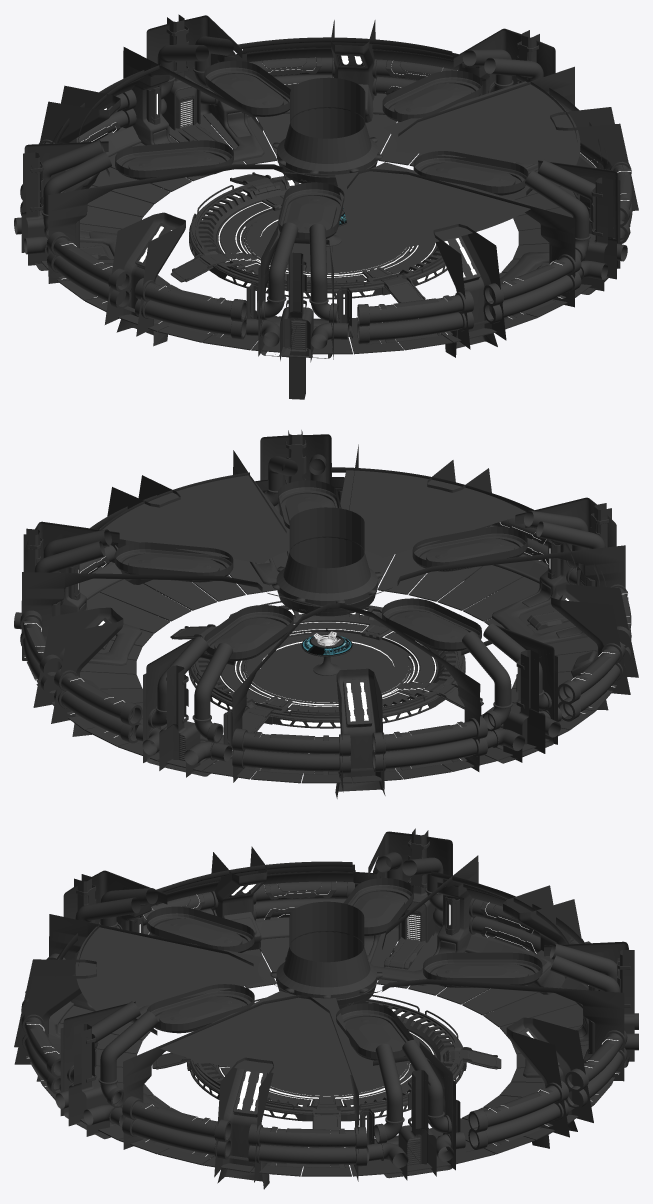
The model's file is hq-room-simple-remeshed15.glb.
3 renders of one model, top to bottom at view 1: azimuth 30°, elevation 25°; view 2: azimuth 150°, elevation 25°; view 3: azimuth 270°, elevation 25°, orthographic.
Visible parts, largest first — view 1: cake-slice-decoration, outer-structure-lamps, outer-structure-vents, outer-structure-pipes, outer-structure, outer_plate, inner-collection, center-lamp, inner-collection.002, inner-collection.001, outer-structure-side-lights, outer-structure-over-vents; view 2: cake-slice-decoration, outer_plate, outer-structure, outer-structure-lamps, outer-structure-pipes, outer-structure-vents, inner-collection, center-lamp, inner-collection.001, inner-collection.002, outer-structure-over-vents, outer-structure-side-lights (+2 smaller); view 3: cake-slice-decoration, outer-structure-lamps, outer-structure-vents, outer-structure-pipes, outer_plate, outer-structure, center-lamp, inner-collection, inner-collection.002, outer-structure-side-lights, inner-collection.001, outer-structure-over-vents.
Part boxes in pixels (x1,y1,x2,y2): cake-slice-decoration: (20, 20, 638, 357); outer-structure-lamps: (115, 60, 528, 238); outer-structure-vents: (21, 14, 617, 399); outer-structure-pipes: (14, 36, 627, 349); outer-structure: (23, 34, 620, 359); outer_plate: (41, 113, 621, 354); inner-collection: (170, 172, 447, 302); center-lamp: (272, 77, 382, 186); inner-collection.002: (192, 176, 443, 289); inner-collection.001: (244, 210, 409, 275); outer-structure-side-lights: (75, 85, 591, 326); outer-structure-over-vents: (30, 25, 602, 308); cake-slice-decoration: (20, 460, 638, 798); outer_plate: (36, 549, 612, 783); outer-structure: (22, 444, 625, 782); outer-structure-lamps: (114, 480, 527, 660); outer-structure-pipes: (14, 454, 605, 765); outer-structure-vents: (21, 430, 616, 777); inner-collection: (170, 601, 483, 733); center-lamp: (272, 507, 381, 616); inner-collection.001: (243, 633, 410, 705); inner-collection.002: (192, 605, 462, 718); outer-structure-over-vents: (27, 440, 608, 723); outer-structure-side-lights: (52, 490, 595, 746); cake-slice-decoration: (14, 846, 627, 1189); outer-structure-lamps: (146, 878, 542, 1060); outer-structure-vents: (63, 828, 634, 1180); outer-structure-pipes: (55, 852, 638, 1167); outer_plate: (39, 930, 614, 1176); outer-structure: (49, 851, 624, 1181); center-lamp: (270, 901, 382, 1009); inner-collection: (152, 995, 501, 1130); inner-collection.002: (192, 1001, 461, 1111); outer-structure-side-lights: (78, 896, 598, 1144); inner-collection.001: (269, 1061, 410, 1098); outer-structure-over-vents: (76, 839, 630, 1127).
Bounding box in the file's own units: 91.78 × 29.58 × 93.48.
Materials: 5 (1 with a texture image).
